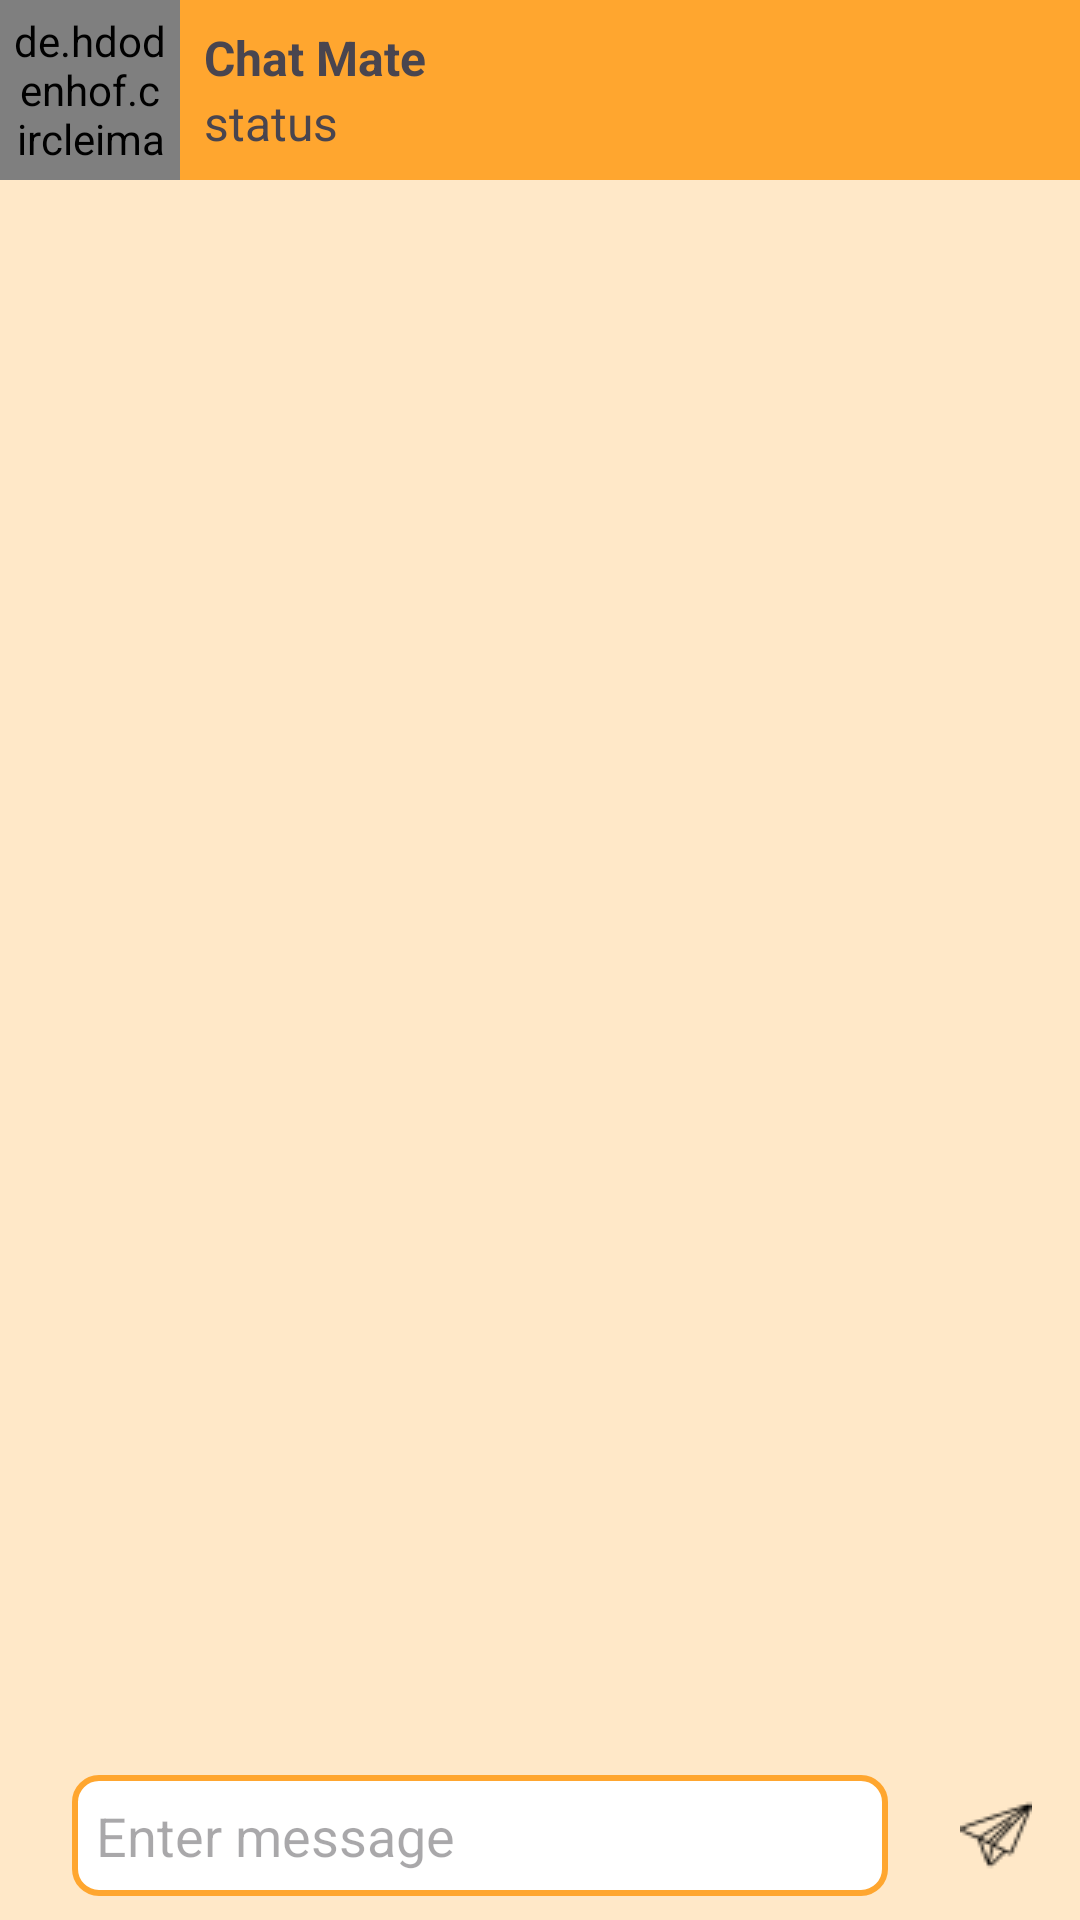

Icon bounding boxes for this 1080*1920 phone screenshot, format (x1, y1, x2, y2):
send: (960, 1802, 1032, 1867)
